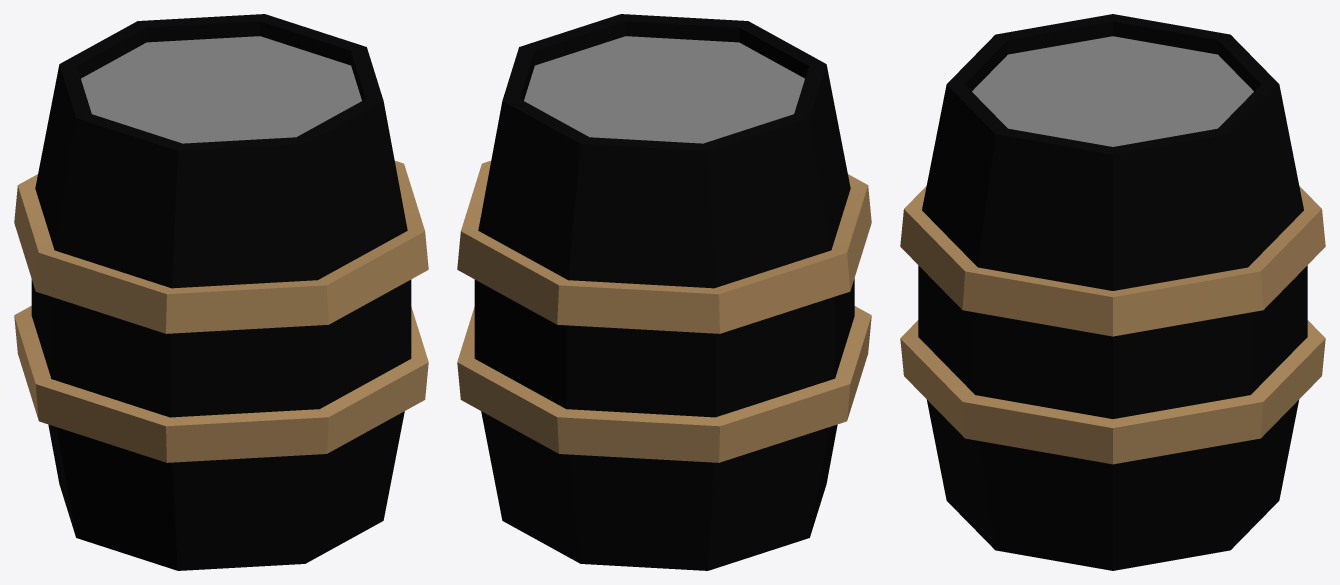
Rendered from Barrel.fbx.
The picture shows the model from 3 angles, left to right: view 1: azimuth 30°, elevation 25°; view 2: azimuth 150°, elevation 25°; view 3: azimuth 270°, elevation 25°; orthographic projection.
Parts seen in each view (by area): view 1: pCylinder6; view 2: pCylinder6; view 3: pCylinder6.
Part boxes in pixels (x1,y1,x2,y2): pCylinder6: (14, 14, 428, 570); pCylinder6: (457, 14, 871, 570); pCylinder6: (900, 14, 1325, 570).
Bounding box in the file's own units: 2.56 × 2.76 × 2.56.
